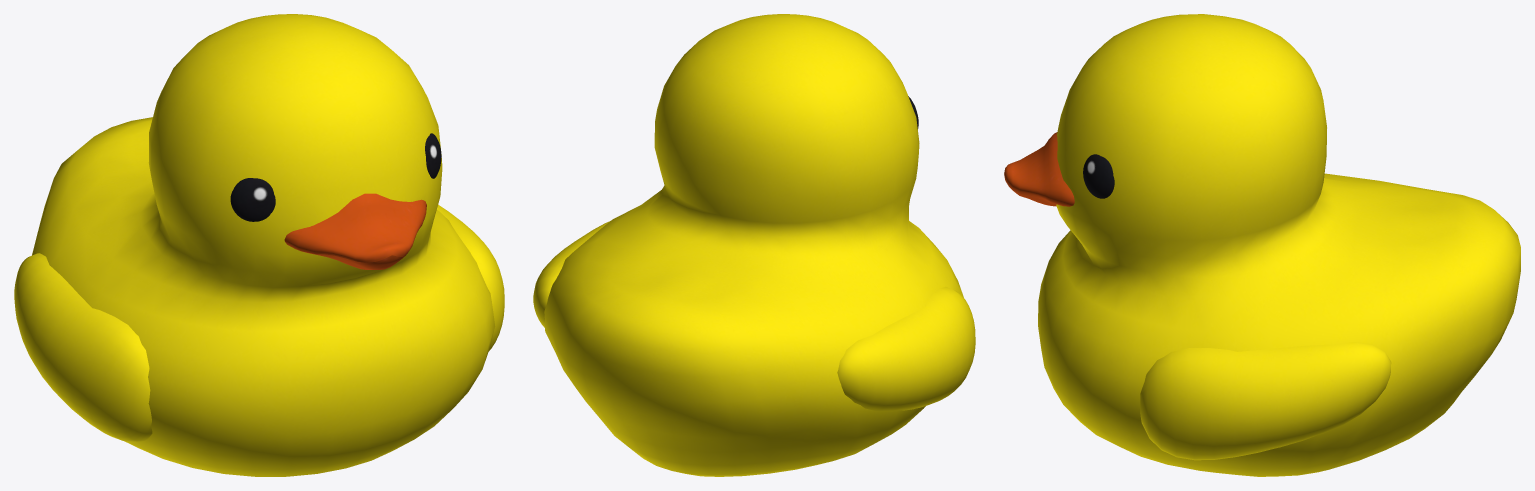
The model's file is rubber_duck.fbx.
The picture shows the model from 3 angles, left to right: view 1: azimuth 30°, elevation 25°; view 2: azimuth 150°, elevation 25°; view 3: azimuth 270°, elevation 25°; orthographic projection. The views are drawn at different scales.
Parts seen in each view (by area): view 1: rubber_duck_geo; view 2: rubber_duck_geo; view 3: rubber_duck_geo.
Part boxes in pixels (x1=…): rubber_duck_geo: x1=14, y1=14, x2=504, y2=476; rubber_duck_geo: x1=533, y1=14, x2=975, y2=476; rubber_duck_geo: x1=1004, y1=14, x2=1520, y2=476.
Bounding box in the file's own units: 9.51 × 9.14 × 10.25.
Materials: 1 (1 with a texture image).
